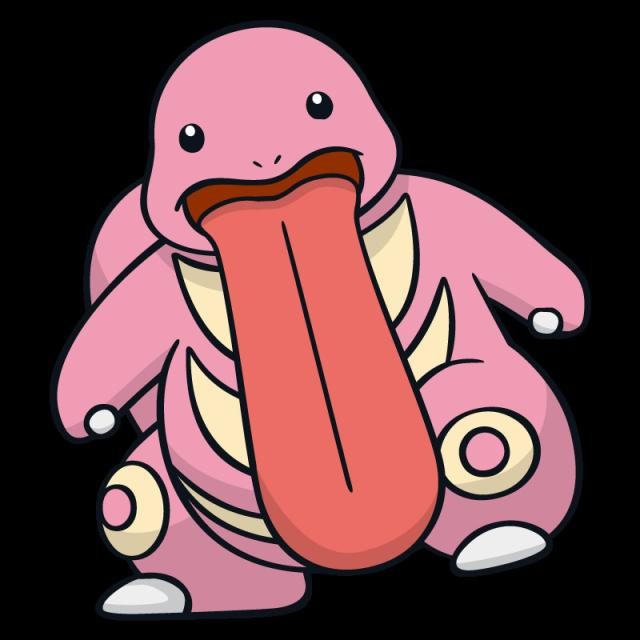Lickitung: (76, 68, 538, 582)
